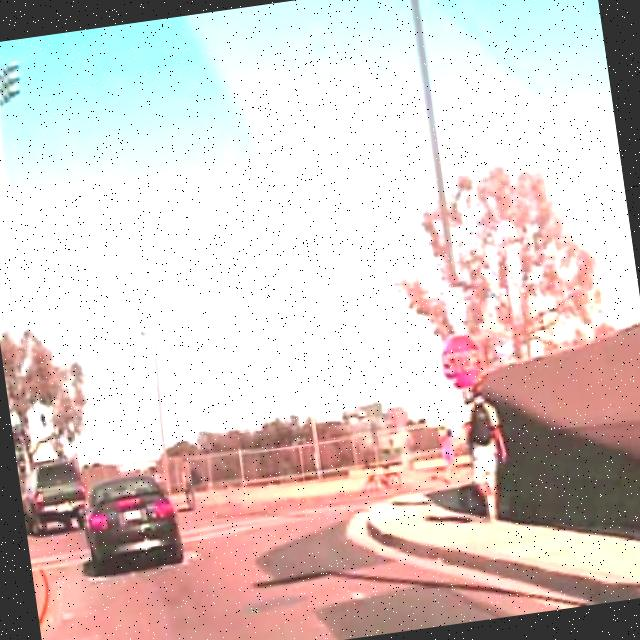Stop: (436, 330, 491, 396)
